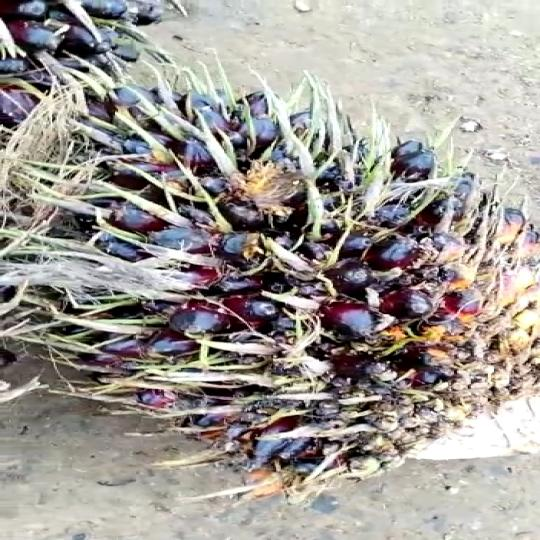mentah: (7, 53, 540, 491)
